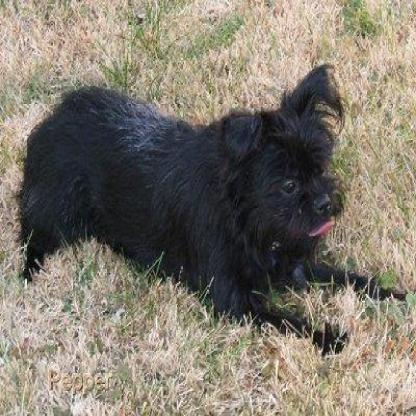affenpinscher: (13, 58, 406, 352)
